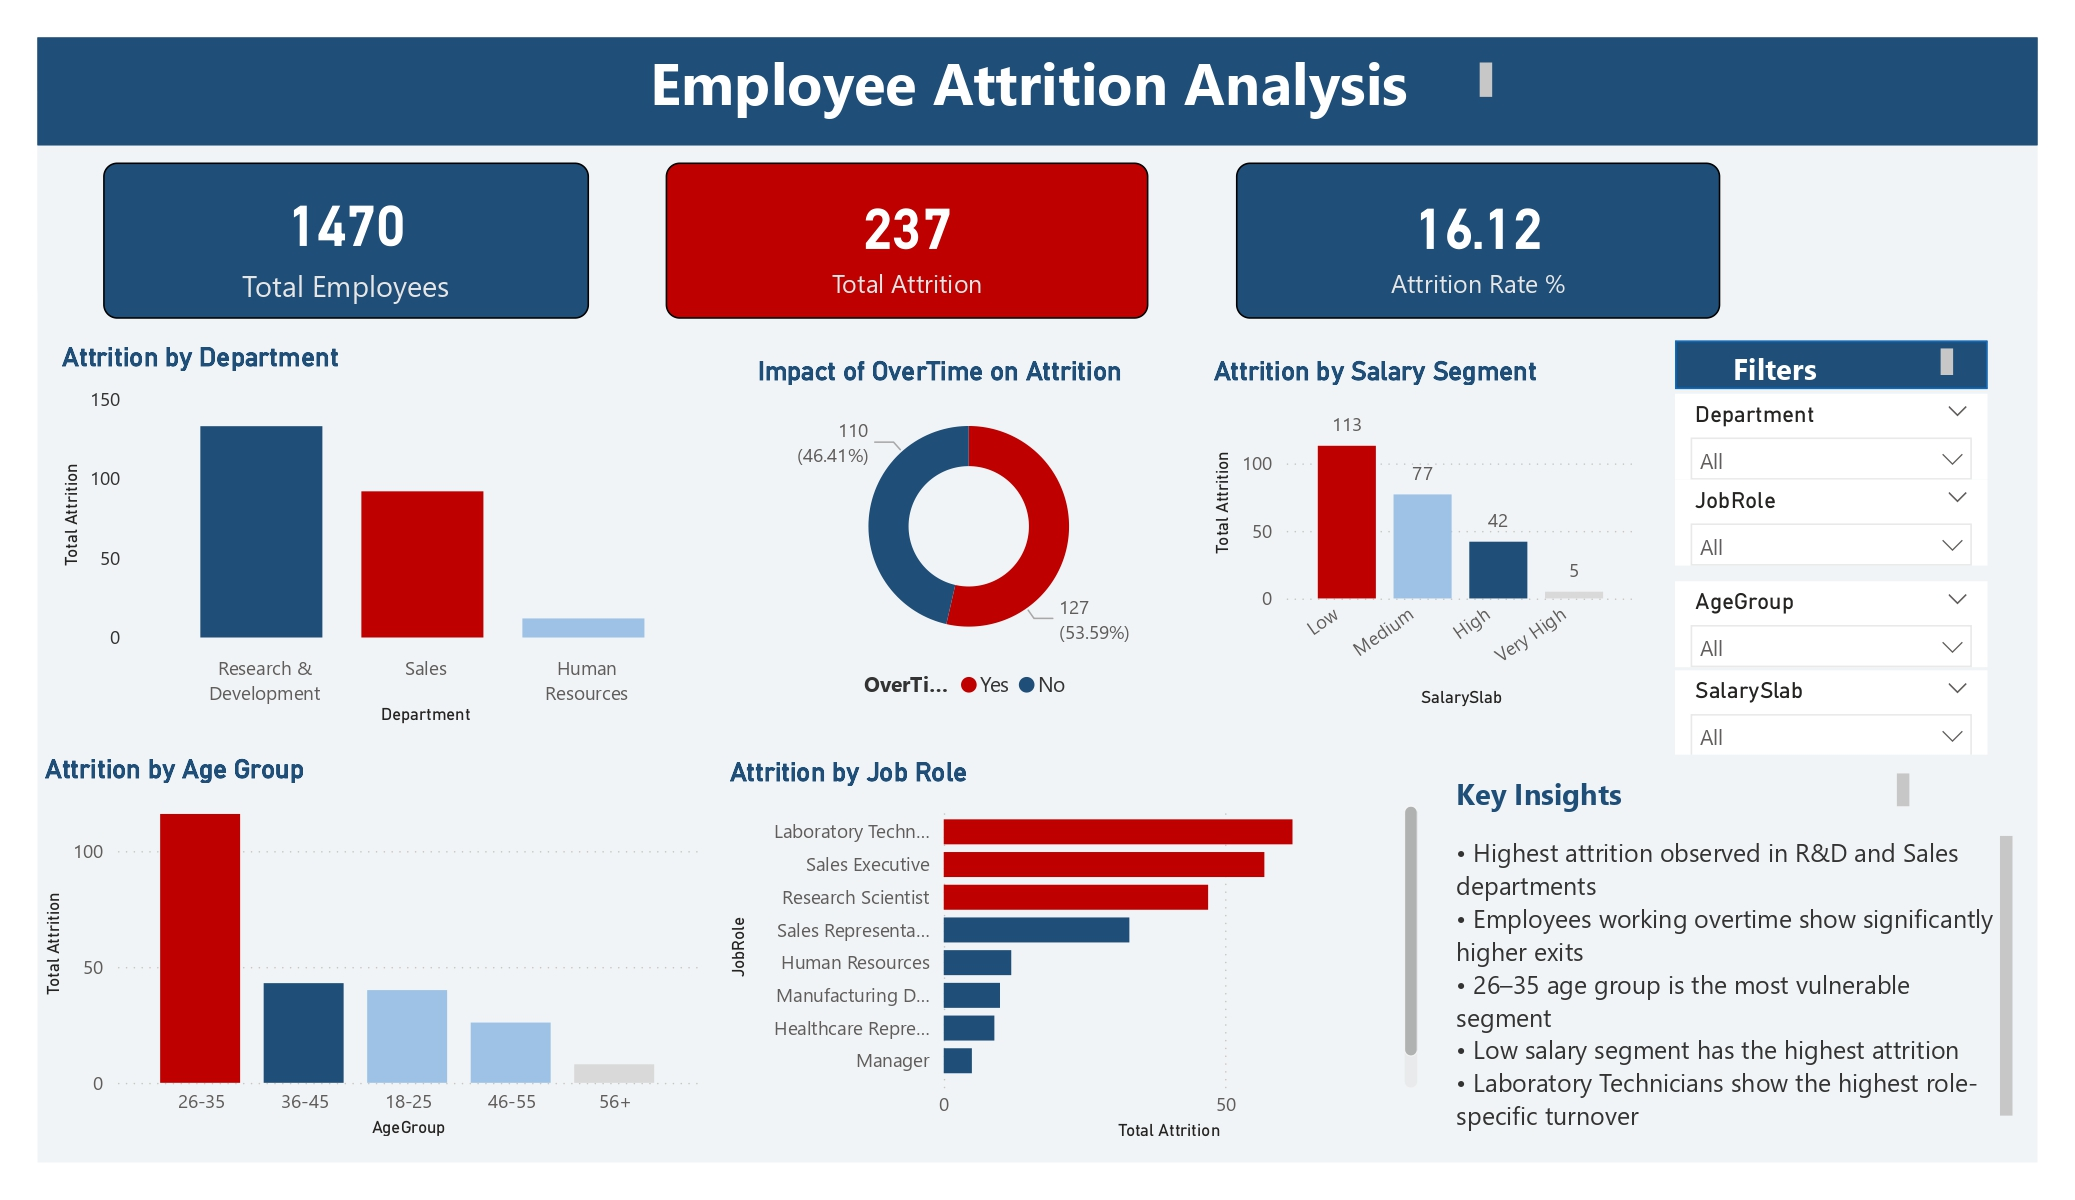

The dashboard page shown, as its layout file describes it:
{"tool":"powerbi","page":{"name":"Page 1","canvas":[1280,720],"ordinal":0},"visuals":[{"type":"card","fields":{"Values":["hr_attrition_cleaned.Total Attrition"]},"box":[401.6,79.7,309.4,100],"z":0},{"type":"card","fields":{"Values":["hr_attrition_cleaned.Total Employees"]},"box":[42.2,79.7,310.9,100],"z":1000},{"type":"card","fields":{"Values":["hr_attrition_cleaned.Attrition Rate %"]},"box":[766.7,80,310,100],"z":2000},{"type":"clusteredColumnChart","title":"Attrition by Department","fields":{"Category":["hr_attrition_cleaned.Department"],"Y":["hr_attrition_cleaned.Total Attrition"]},"box":[10.9,193.8,428.1,250],"z":3000},{"type":"donutChart","title":"Impact of OverTime on Attrition","fields":{"Category":["hr_attrition_cleaned.OverTime"],"Y":["hr_attrition_cleaned.Total Attrition"]},"box":[456.2,203.1,279.7,229.7],"z":4000},{"type":"clusteredColumnChart","title":"Attrition by Age Group","fields":{"Category":["hr_attrition_cleaned.AgeGroup"],"Y":["hr_attrition_cleaned.Total Attrition"]},"box":[0,458.3,428,250],"z":5000},{"type":"clusteredColumnChart","title":"Attrition by Salary Segment","fields":{"Category":["hr_attrition_cleaned.SalarySlab"],"Y":["hr_attrition_cleaned.Total Attrition"]},"box":[748.4,203.1,279.7,229.7],"z":6000},{"type":"clusteredBarChart","title":"Attrition by Job Role","fields":{"Category":["hr_attrition_cleaned.JobRole"],"Y":["hr_attrition_cleaned.Total Attrition"]},"box":[438.3,460,450,250],"z":7000},{"type":"slicer","fields":{"Values":["hr_attrition_cleaned.Department"]},"box":[1048.4,228.1,200,54.7],"z":8000},{"type":"slicer","fields":{"Values":["hr_attrition_cleaned.AgeGroup"]},"box":[1048.4,348.4,200,54.7],"z":9000},{"type":"slicer","fields":{"Values":["hr_attrition_cleaned.JobRole"]},"box":[1048.4,282.8,200,54.7],"z":10000},{"type":"slicer","fields":{"Values":["hr_attrition_cleaned.SalarySlab"]},"box":[1048.4,404.7,200,54.7],"z":11000},{"type":"shape","box":[0,0,1280.2,69.1],"z":12000},{"type":"textbox","box":[341.3,7.2,594.7,53.3],"z":13000},{"type":"shape","box":[1048.3,194.4,200.2,30.2],"z":14000},{"type":"textbox","box":[1000.8,194.4,230.4,34.6],"z":15000},{"type":"textbox","box":[903.1,465.6,300,40.6],"z":17000},{"type":"textbox","box":[903.1,506.2,365.6,201.6],"z":17501}]}

Visuals, with their boxes in screenshot pixels (x1, y1, x2, y2):
card - hr_attrition_cleaned.Total Attrition: box(665, 162, 1148, 318)
card - hr_attrition_cleaned.Total Employees: box(103, 162, 589, 318)
card - hr_attrition_cleaned.Attrition Rate %: box(1235, 162, 1720, 319)
"Attrition by Department" clusteredColumnChart: box(55, 340, 723, 731)
"Impact of OverTime on Attrition" donutChart: box(750, 355, 1187, 714)
"Attrition by Age Group" clusteredColumnChart: box(38, 754, 706, 1144)
"Attrition by Salary Segment" clusteredColumnChart: box(1207, 355, 1644, 714)
"Attrition by Job Role" clusteredBarChart: box(722, 756, 1425, 1147)
slicer - hr_attrition_cleaned.Department: box(1676, 394, 1988, 479)
slicer - hr_attrition_cleaned.AgeGroup: box(1676, 582, 1988, 667)
slicer - hr_attrition_cleaned.JobRole: box(1676, 479, 1988, 565)
slicer - hr_attrition_cleaned.SalarySlab: box(1676, 670, 1988, 755)
shape: box(38, 38, 2038, 145)
textbox: box(571, 49, 1500, 132)
shape: box(1675, 341, 1988, 388)
textbox: box(1601, 341, 1961, 395)
textbox: box(1449, 765, 1917, 828)
textbox: box(1449, 828, 2020, 1143)
